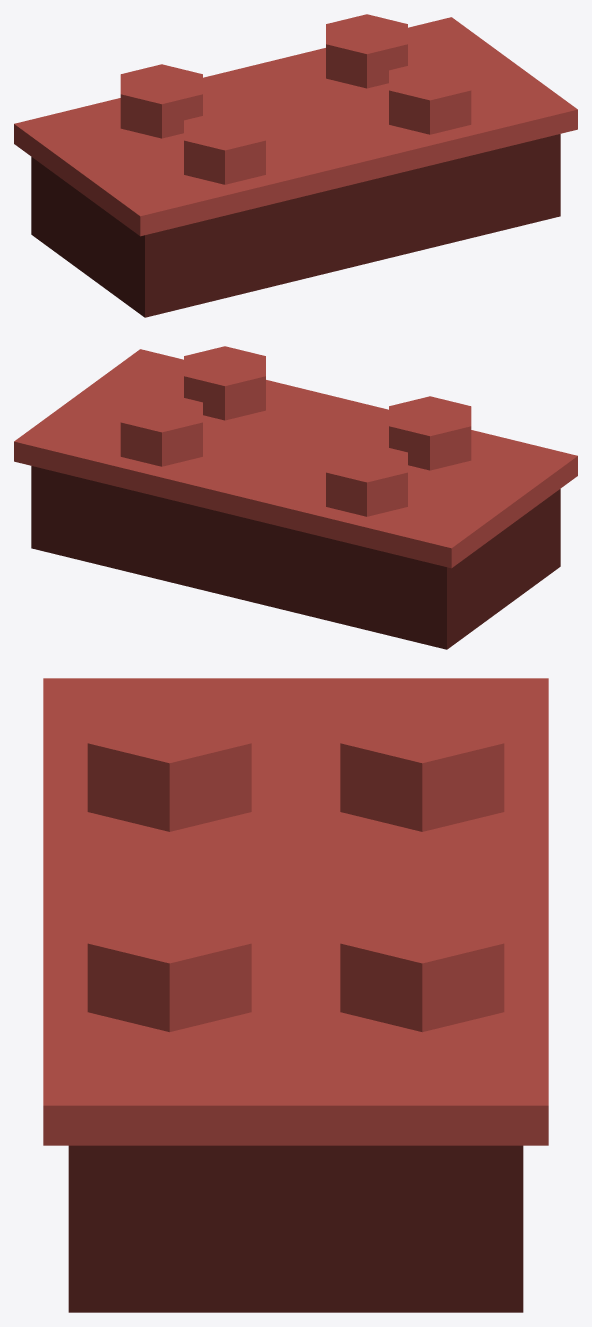
Rendered from toy_brick.glb.
3 views of the same model, one above another, from view 1: azimuth 30°, elevation 25°; view 2: azimuth 150°, elevation 25°; view 3: azimuth 270°, elevation 25° (orthographic). The views are drawn at different scales.
Visible parts, largest first — view 1: toy_brick; view 2: toy_brick; view 3: toy_brick.
Part boxes in pixels (box(x1,y1,x2,y2)): toy_brick: box(14, 14, 577, 317); toy_brick: box(14, 346, 577, 649); toy_brick: box(43, 678, 548, 1312).
Size of the model in its own units: 0.032 by 0.01 by 0.016.
